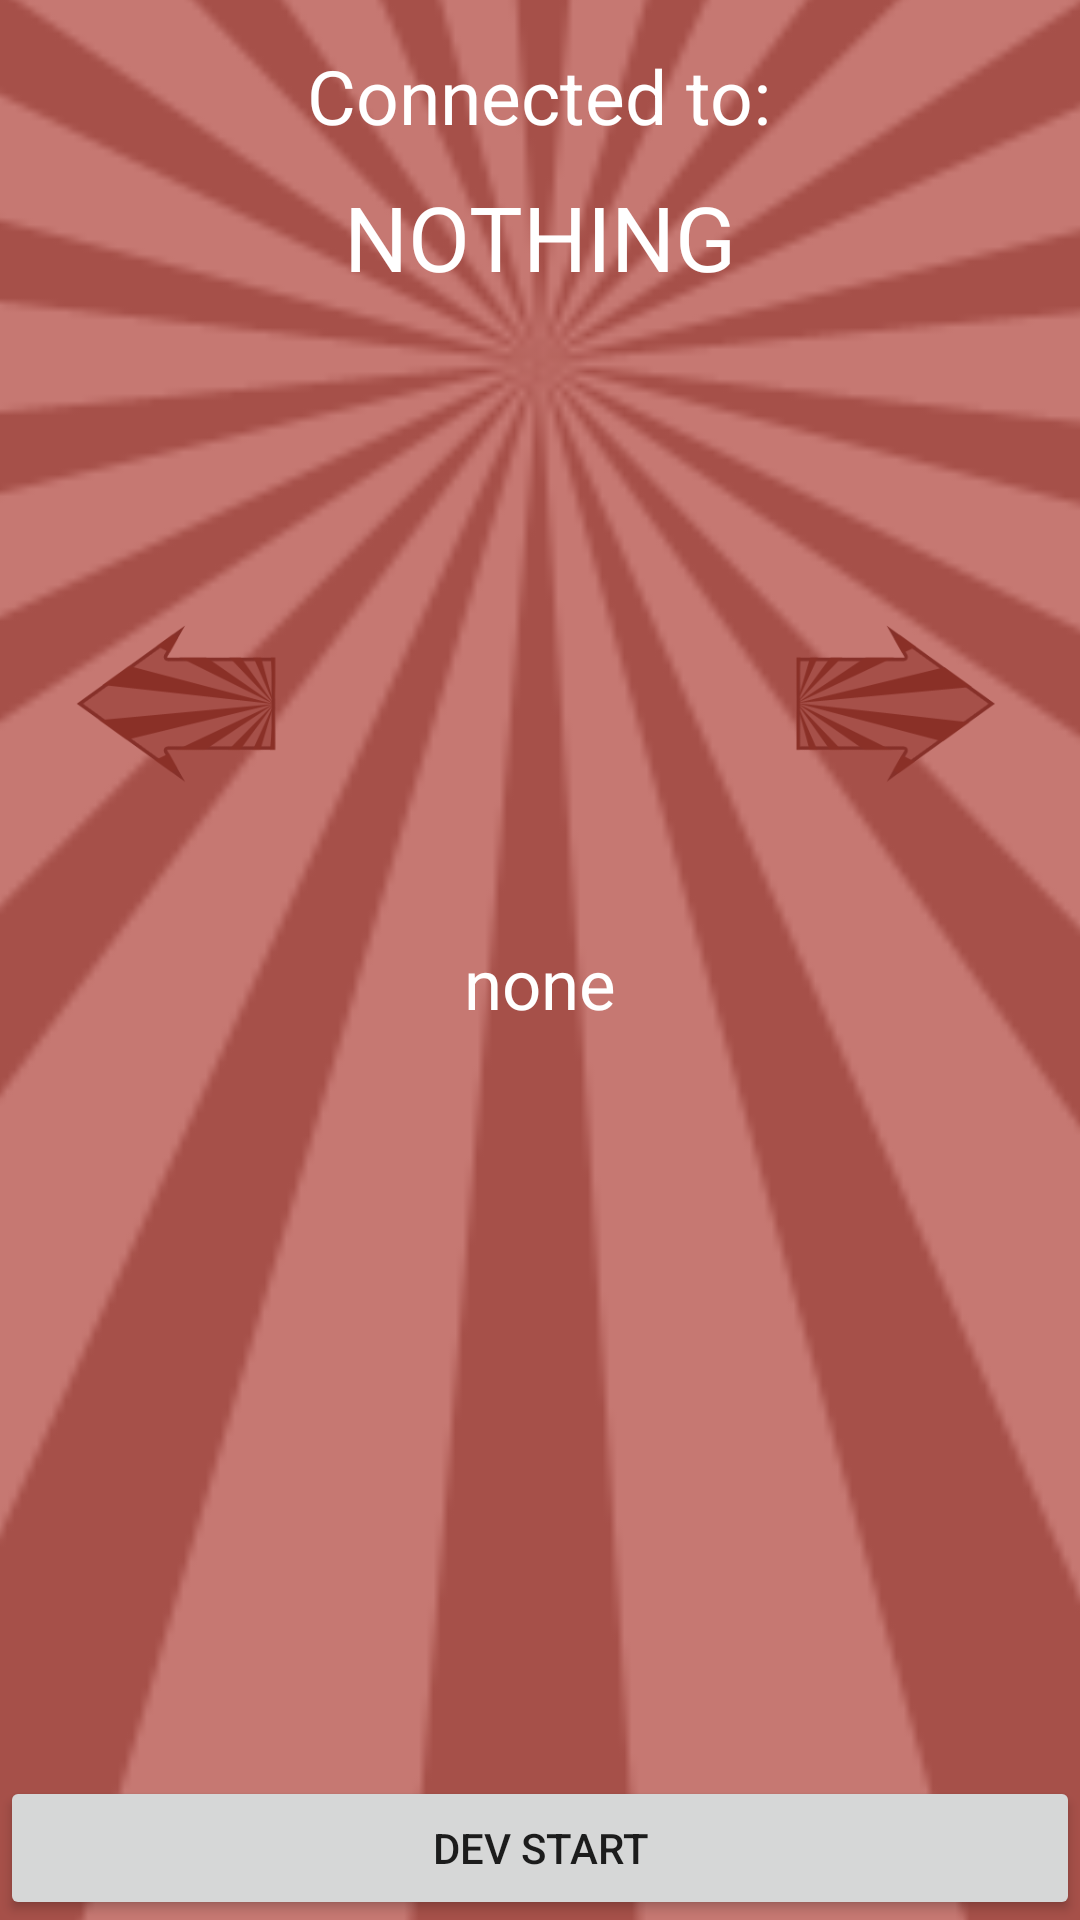

Where to tap for icons on this 1080×1920 app screen, as (x=x, y=y):
arrow left: (x=180, y=700)
arrow right: (x=900, y=700)
